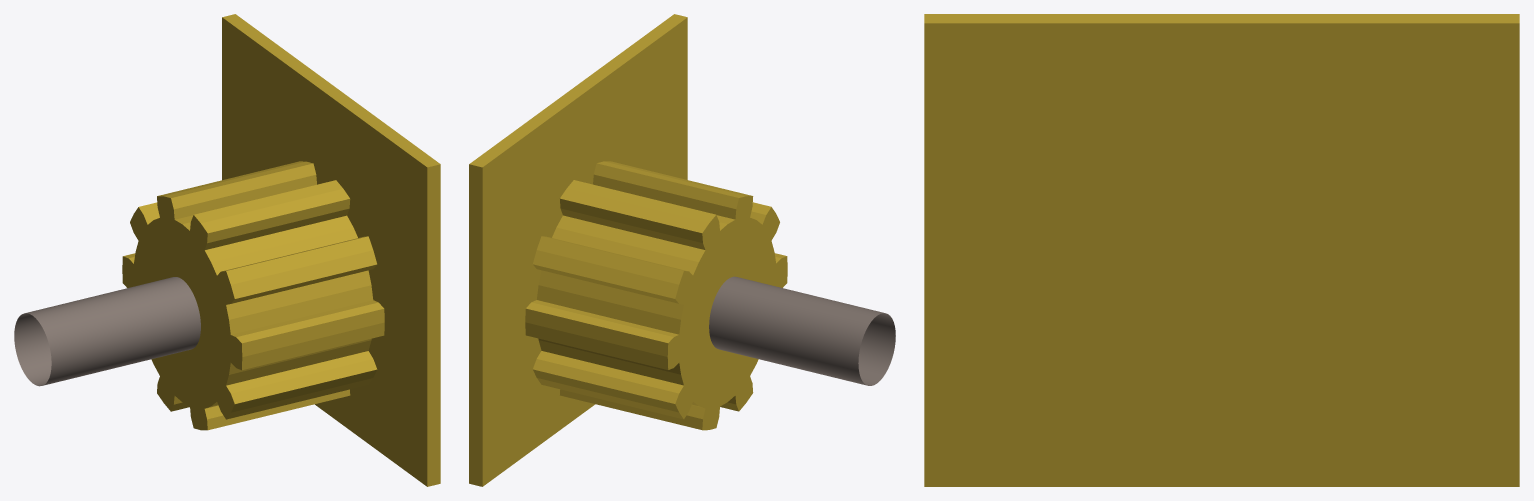
Rendered from rot4_bridge.gltf.
3 renders of one model, left to right at view 1: azimuth 30°, elevation 25°; view 2: azimuth 150°, elevation 25°; view 3: azimuth 270°, elevation 25°, orthographic. The views are drawn at different scales.
Parts seen in each view (by area): view 1: rot4.bridge; view 2: rot4.bridge; view 3: rot4.bridge.
Boxes of the visible parts, bbox=[...] form: rot4.bridge: bbox=[14, 14, 440, 486]; rot4.bridge: bbox=[469, 14, 895, 486]; rot4.bridge: bbox=[924, 14, 1519, 486].
Bounding box in the file's own units: 4.56 × 4.56 × 5.31.
